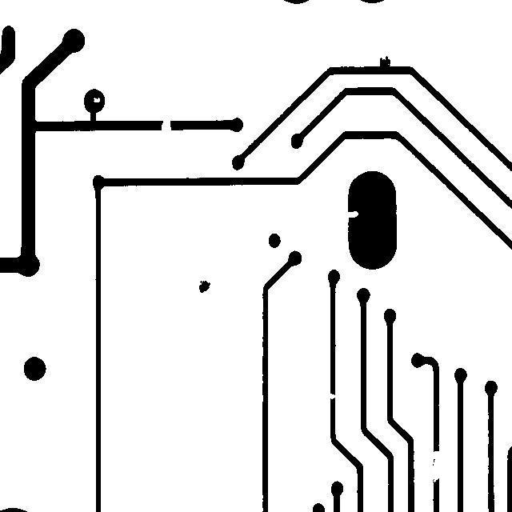copper: (191, 273, 218, 300)
mousebite: (335, 203, 366, 225)
open: (418, 443, 450, 487), (154, 108, 178, 143), (318, 383, 342, 406)
pin-hole: (86, 90, 107, 110)
short: (82, 95, 104, 130)
spur: (373, 51, 398, 76)
